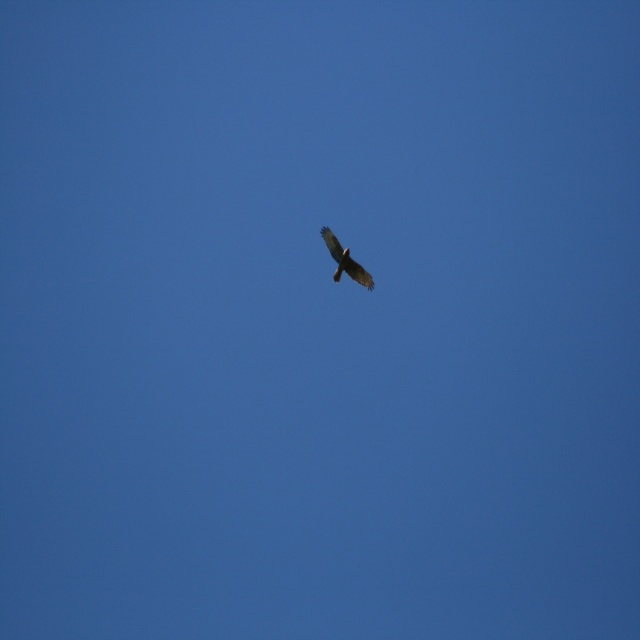Eagle: (319, 220, 377, 295)
